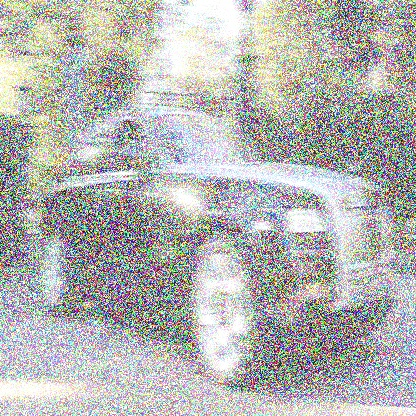Vehicle: (38, 108, 395, 392)
